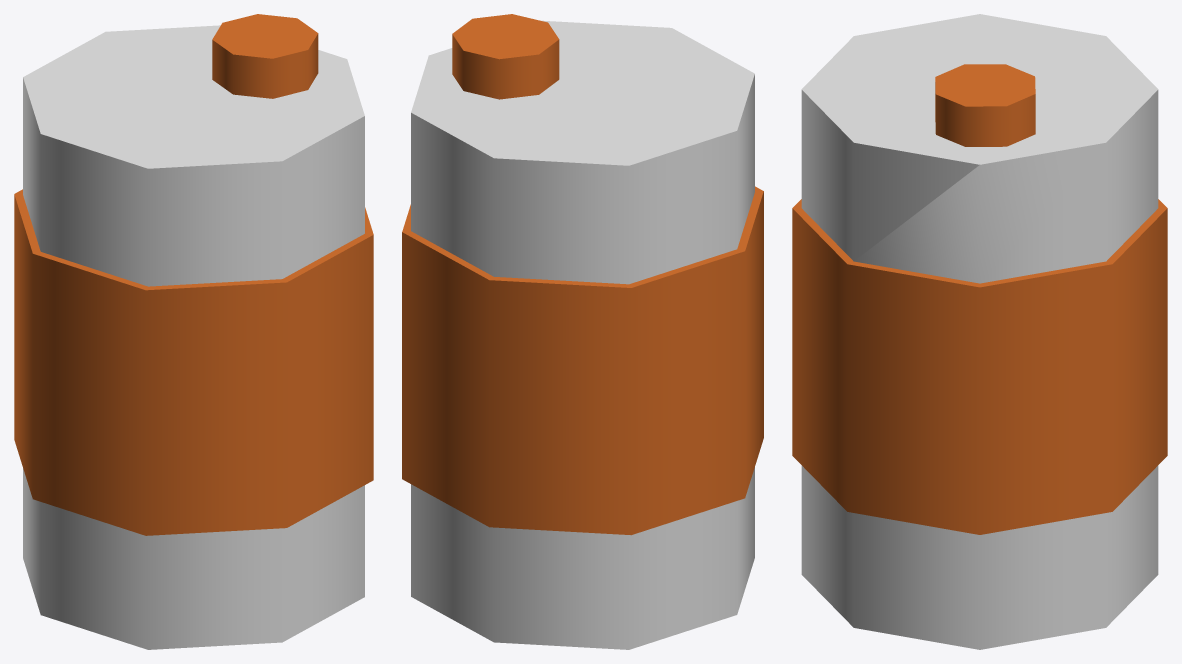
File: Barrel_1.FBX
3 views of the same model, side by side, from view 1: azimuth 30°, elevation 25°; view 2: azimuth 150°, elevation 25°; view 3: azimuth 270°, elevation 25° (orthographic).
Visible parts, largest first — view 1: Barrel_1; view 2: Barrel_1; view 3: Barrel_1.
Part boxes in pixels (left/top/right/bottom): Barrel_1: left=14, top=14, right=373, bottom=649; Barrel_1: left=402, top=14, right=763, bottom=649; Barrel_1: left=792, top=14, right=1167, bottom=649.
Size of the model in its own units: 210 by 325 by 210.
